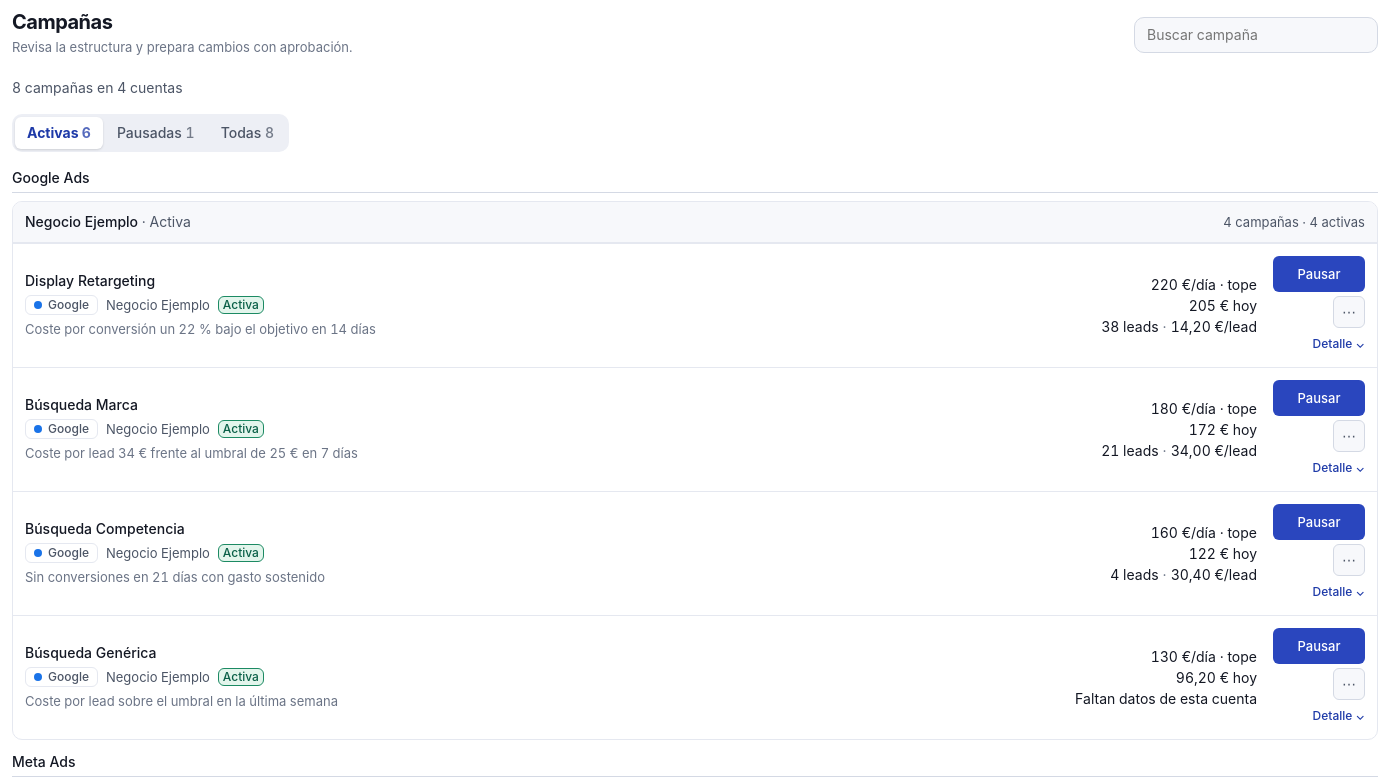
Test case: CampanasPage — pestañas Activas/Pausadas/Todas › por defecto aterriza en Activas con la cuenta correcta y sincroniza ?estado= al cambiar
Expected: the text "6" is shown, [82, 124, 91, 141]
Expected: the tab "Todas 8" is shown, [209, 116, 286, 148]
Click the tab "Pausadas 1". click: (156, 132)
box: [105, 116, 207, 148]
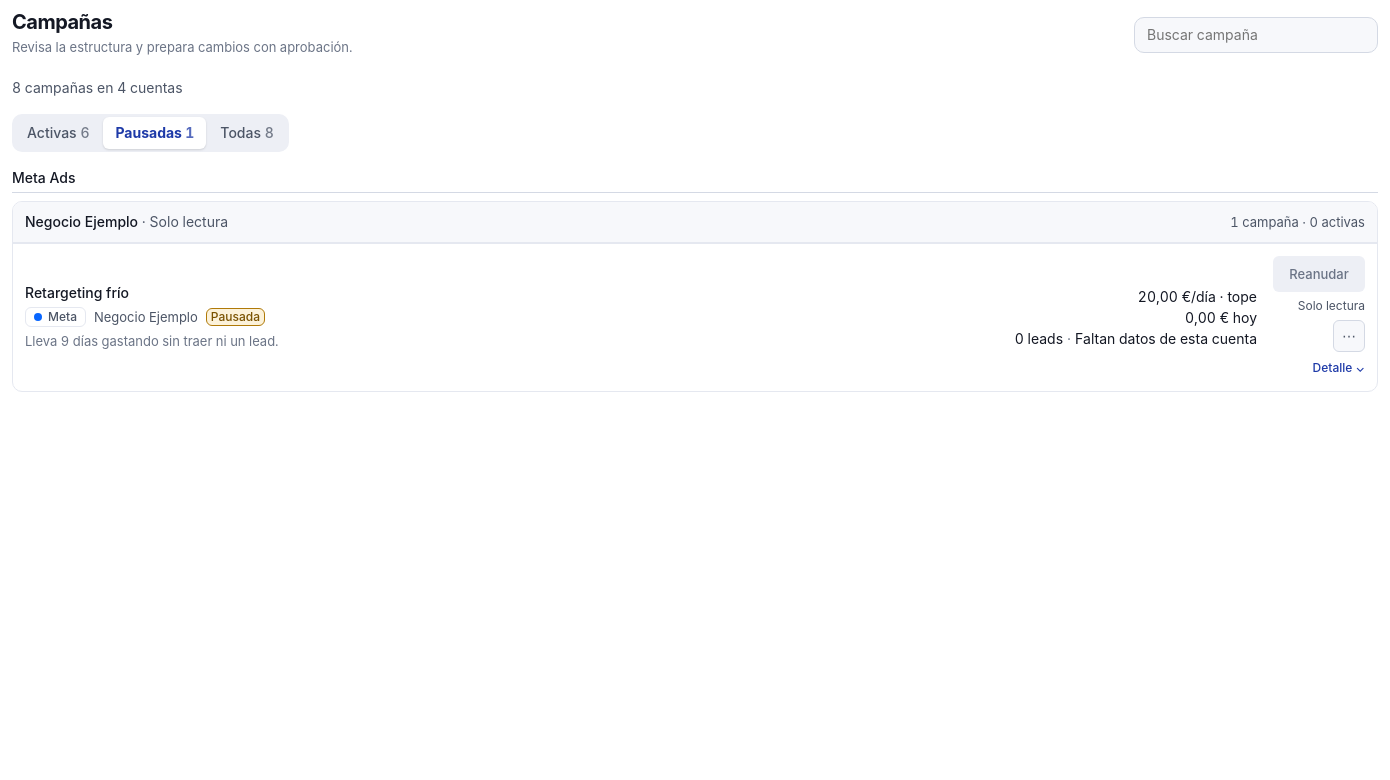
Expected: the text "Retargeting frío" is shown, [25, 284, 129, 301]
Expected: the button "Display Retargeting" is gone
